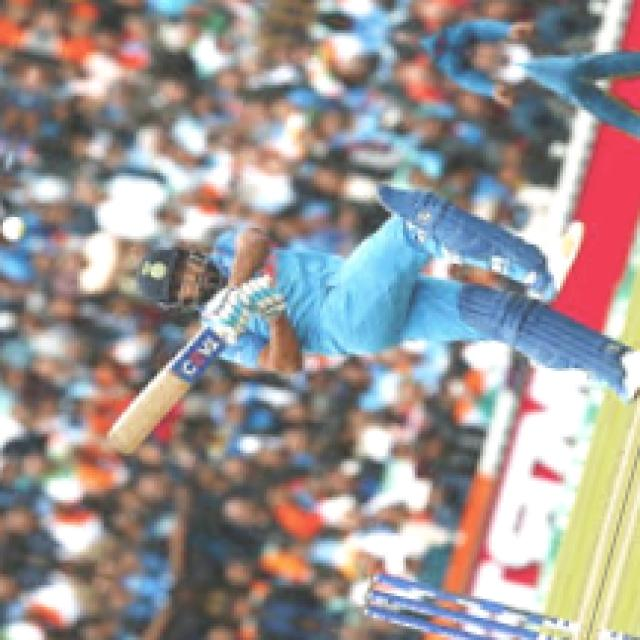toe: (103, 428, 144, 458)
